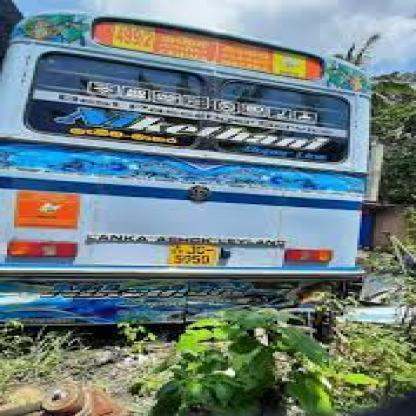bus back: (3, 14, 374, 320)
number plate: (167, 241, 222, 268)
